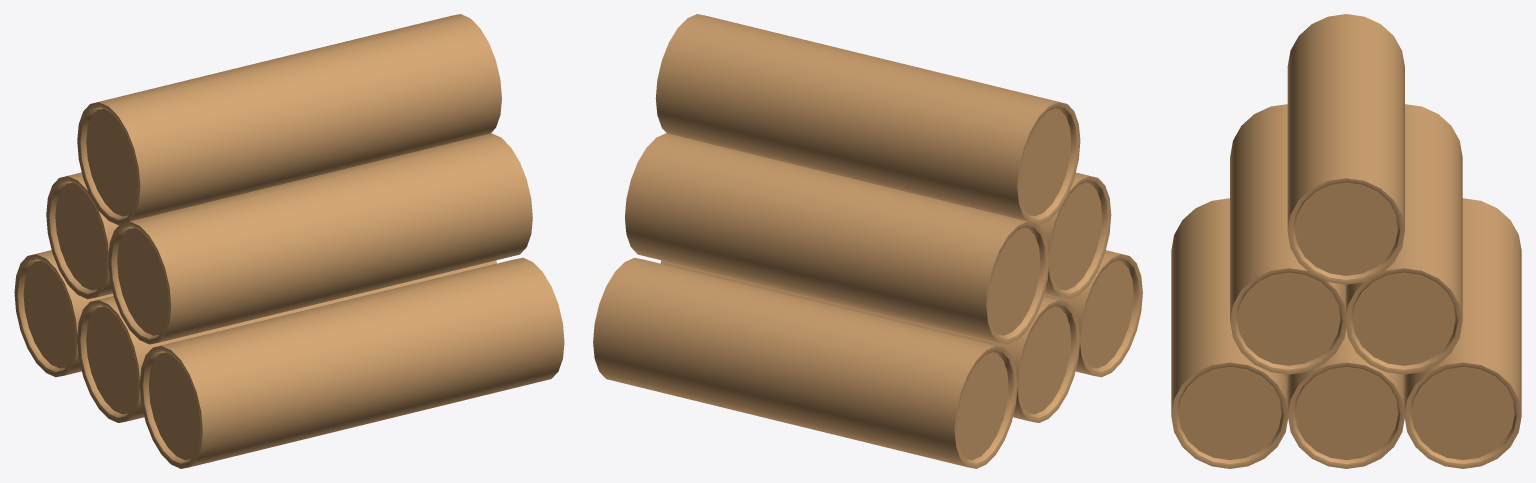
The model's file is RW_COPPERCYLINDER.fbx.
3 views of the same model, side by side, from view 1: azimuth 30°, elevation 25°; view 2: azimuth 150°, elevation 25°; view 3: azimuth 270°, elevation 25° (orthographic). The views are drawn at different scales.
Visible parts, largest first — view 1: COPPERCYLINDER; view 2: COPPERCYLINDER; view 3: COPPERCYLINDER.
Part boxes in pixels (x1=…): COPPERCYLINDER: x1=14, y1=14, x2=564, y2=468; COPPERCYLINDER: x1=593, y1=14, x2=1142, y2=468; COPPERCYLINDER: x1=1171, y1=14, x2=1521, y2=468.
Size of the model in its own units: 0.6722 by 0.6062 by 0.5546.
